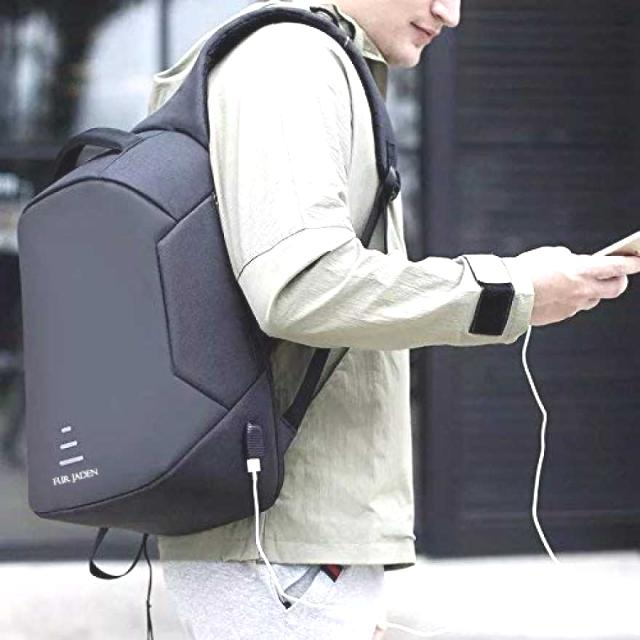backpack: (17, 2, 401, 538)
